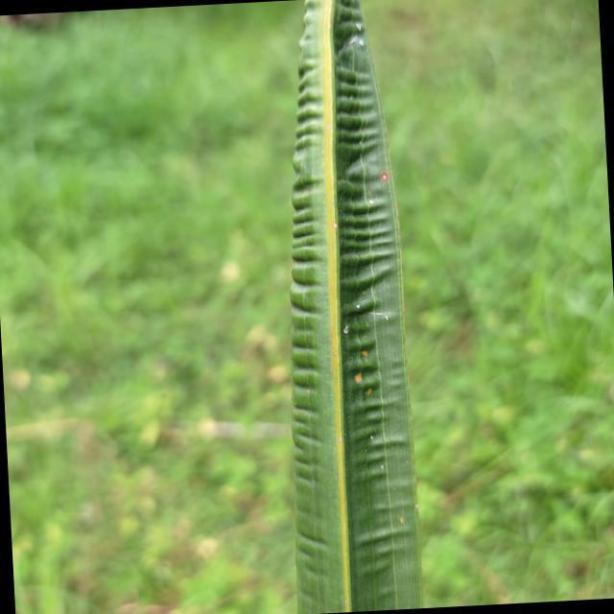Boron: (286, 0, 421, 614)
